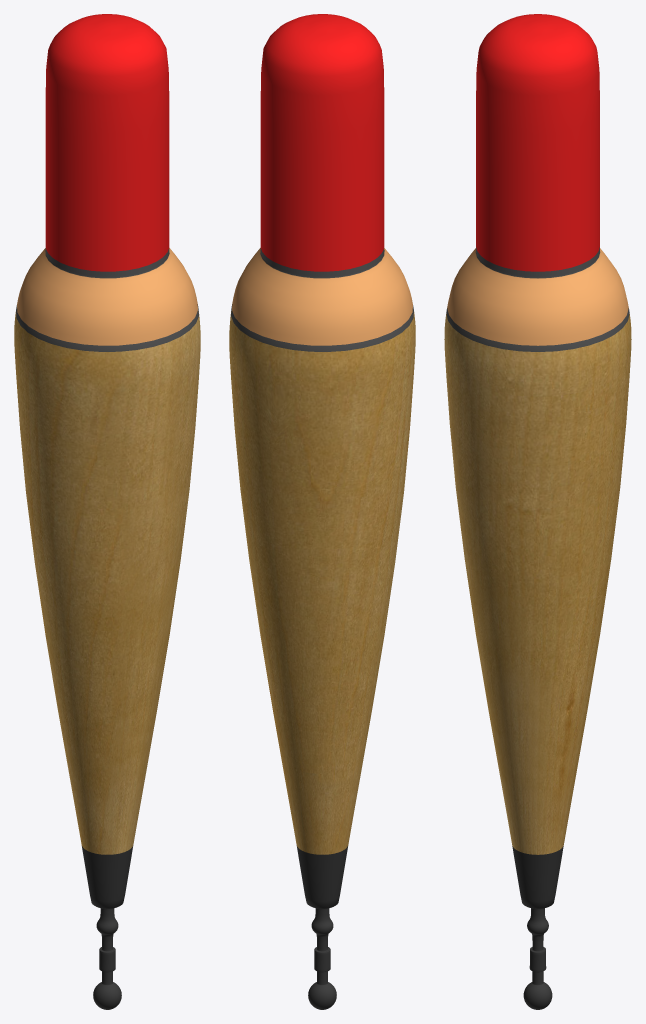
File: float_04.fbx
3 renders of one model, left to right at view 1: azimuth 30°, elevation 25°; view 2: azimuth 150°, elevation 25°; view 3: azimuth 270°, elevation 25°, orthographic.
Visible parts, largest first — view 1: Float_04; view 2: Float_04; view 3: Float_04.
Boxes of the visible parts, x1,y1,x2,y2 form: Float_04: (14,14,200,1009); Float_04: (229,14,415,1009); Float_04: (444,14,631,1009).
Bounding box in the file's own units: 53.56 × 311 × 53.56.
